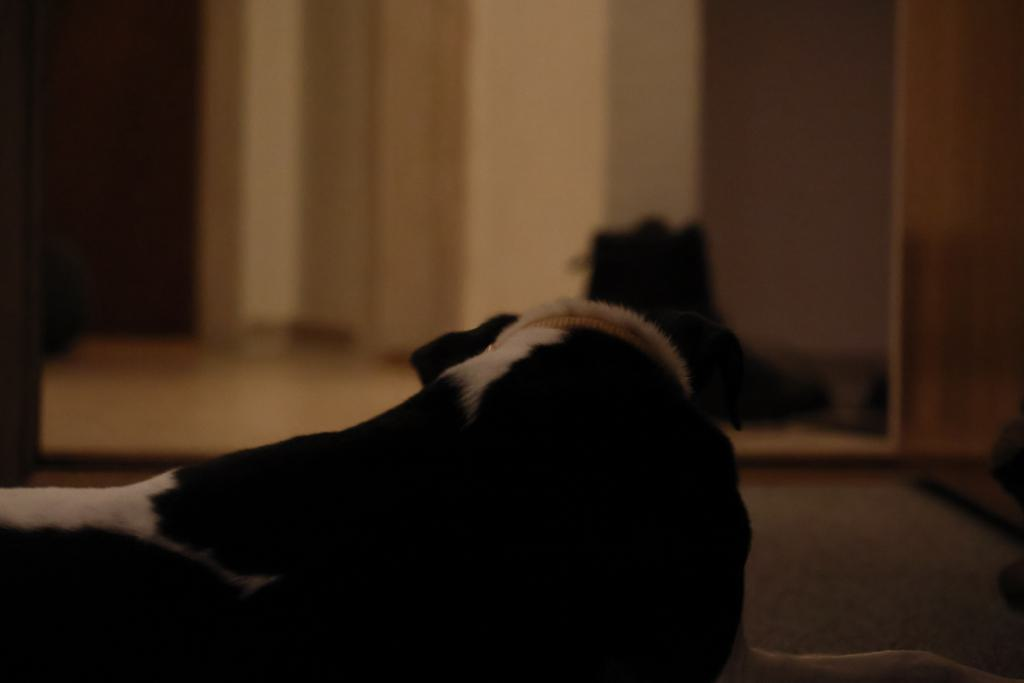Dog: (0, 279, 1024, 683)
